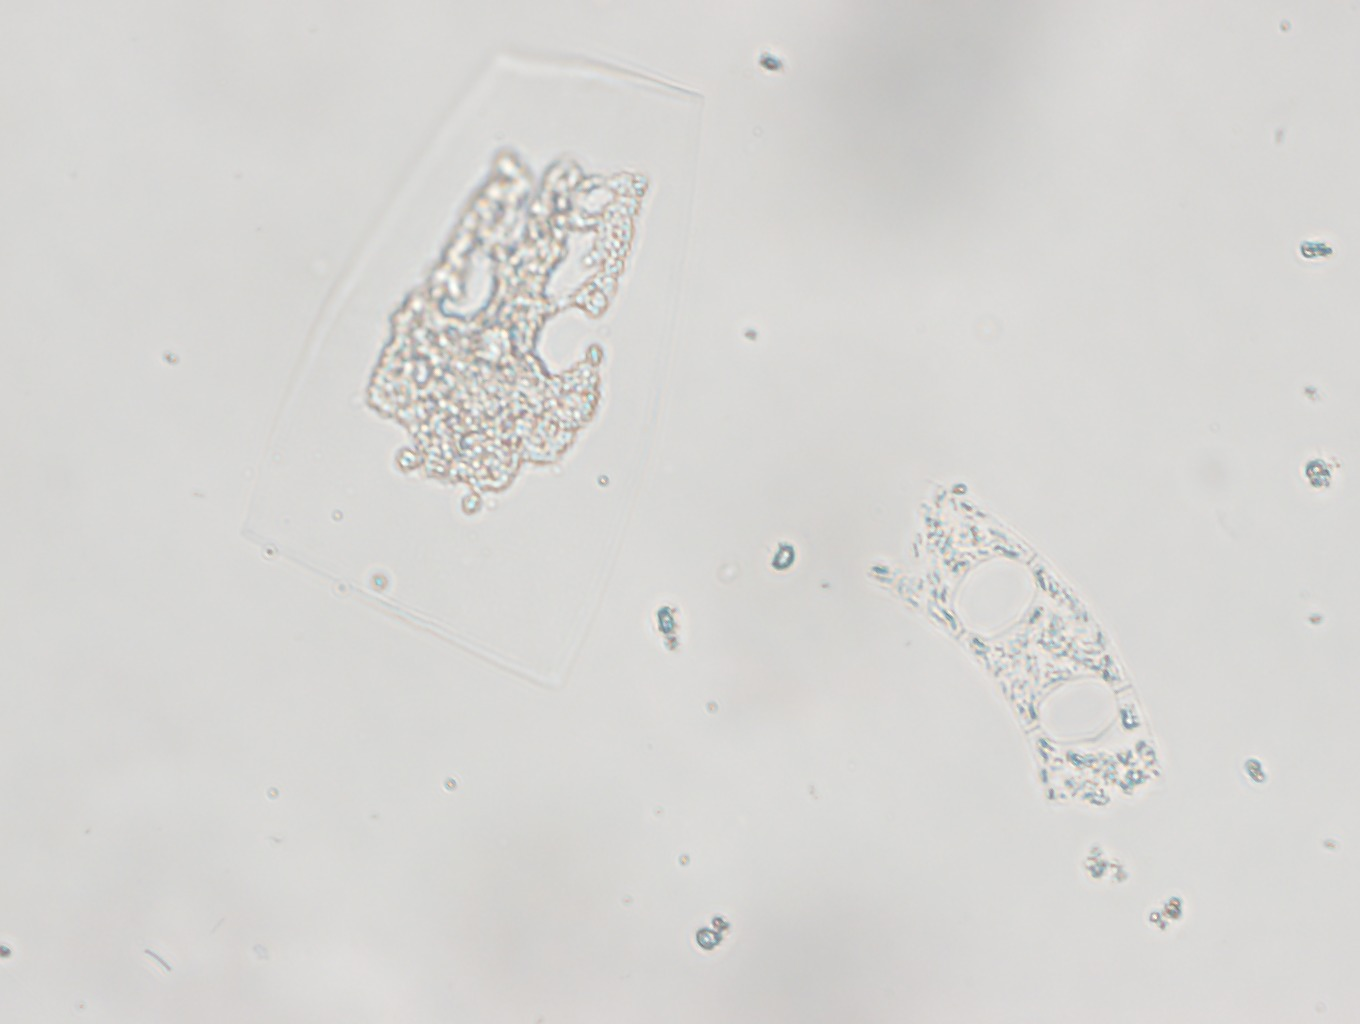eucampia: (857, 477, 1176, 820)
helicotheca: (219, 35, 715, 698)
